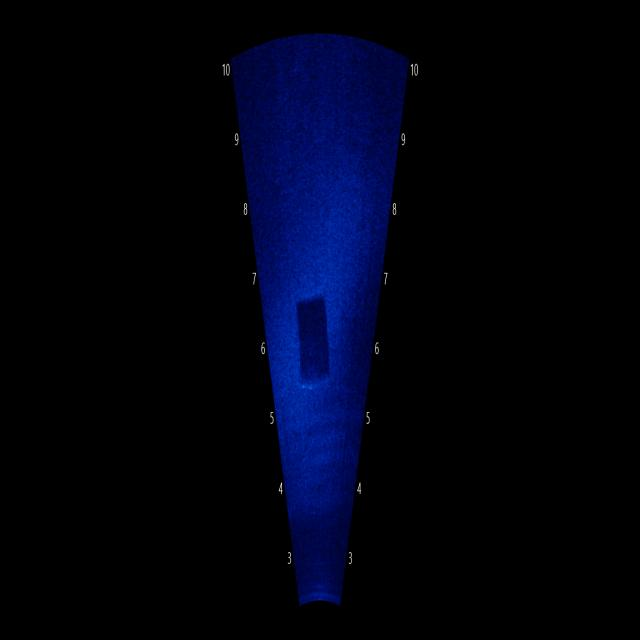square: (285, 269, 339, 416)
